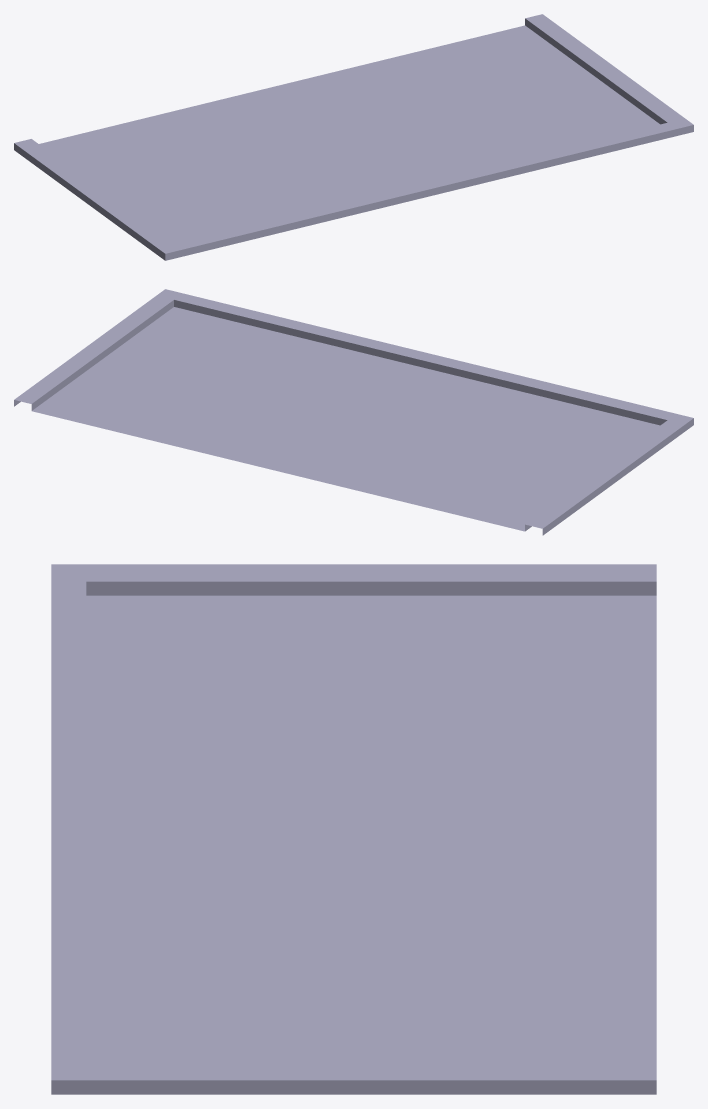
Rendered from block_5.fbx.
3 views of the same model, one above another, from view 1: azimuth 30°, elevation 25°; view 2: azimuth 150°, elevation 25°; view 3: azimuth 270°, elevation 25° (orthographic). The views are drawn at different scales.
Visible parts, largest first — view 1: Block_5; view 2: Block_5; view 3: Block_5.
Part boxes in pixels (x1,y1,x2,y2): Block_5: (14,14,693,260); Block_5: (14,289,693,535); Block_5: (51,564,656,1094).
Bounding box in the file's own units: 9.95 × 0.1269 × 4.93.
